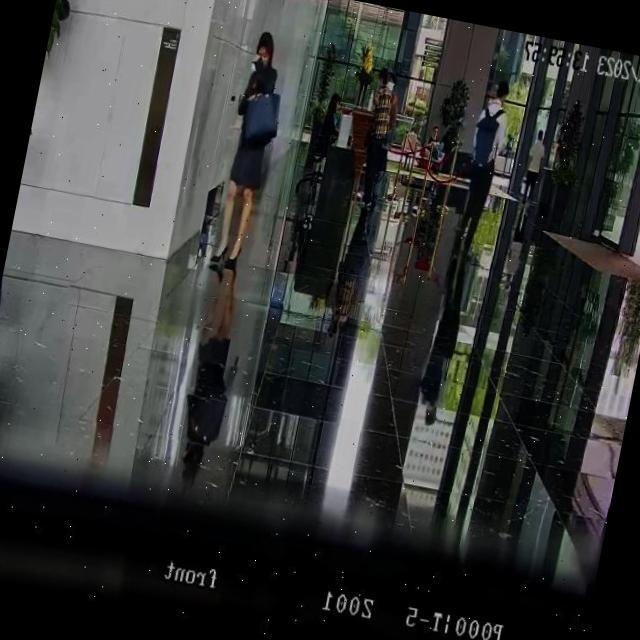person: (205, 29, 292, 280), (450, 77, 515, 262), (352, 70, 406, 212), (518, 128, 550, 206), (314, 91, 345, 156), (423, 126, 447, 174)
